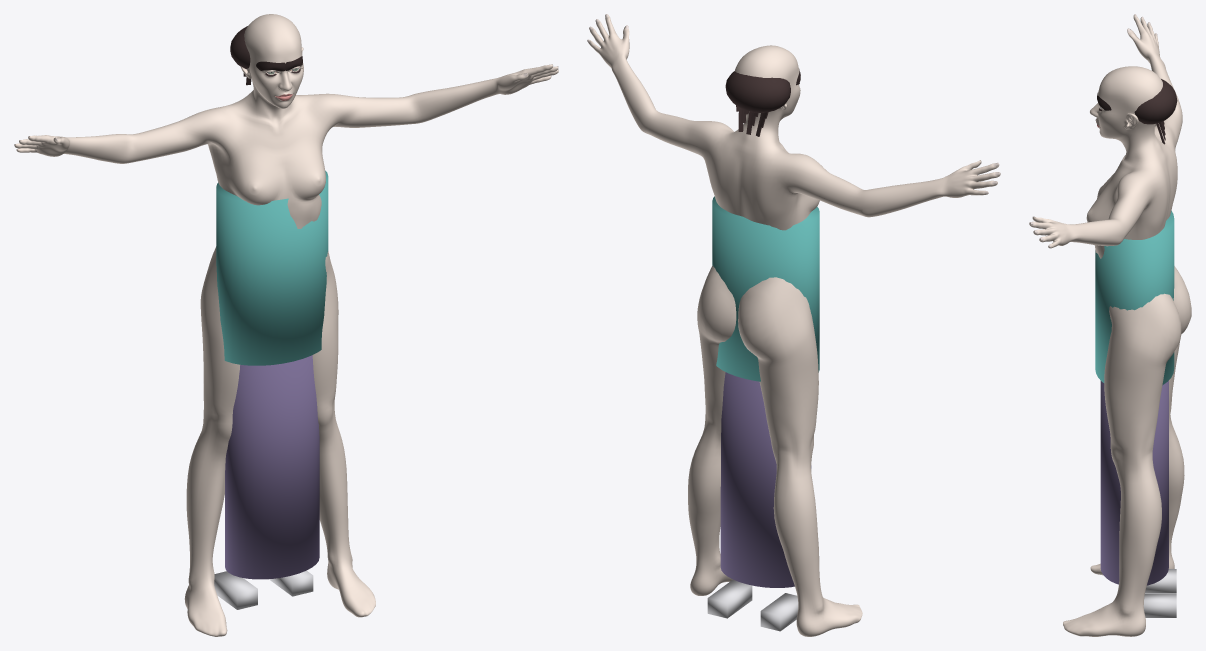
The model's file is hm_ped_suki_v12.glb.
The picture shows the model from 3 angles, left to right: view 1: azimuth 30°, elevation 25°; view 2: azimuth 150°, elevation 25°; view 3: azimuth 270°, elevation 25°; orthographic projection. The views are drawn at different scales.
Parts seen in each view (by area): view 1: hm_ped_suki; view 2: hm_ped_suki; view 3: hm_ped_suki.
Part boxes in pixels (x1,y1,x2,y2): hm_ped_suki: [14, 14, 558, 636]; hm_ped_suki: [587, 14, 1000, 636]; hm_ped_suki: [1029, 14, 1191, 636].
Bounding box in the file's own units: 1.4 × 1.62 × 0.4445.
